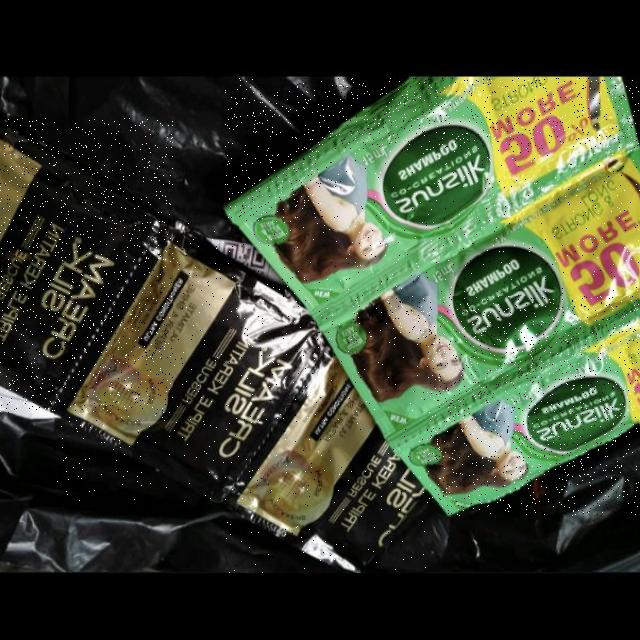wrapper: (225, 78, 640, 333), (321, 150, 640, 439), (55, 222, 333, 503), (388, 296, 639, 515), (0, 118, 173, 412), (226, 346, 427, 573)
